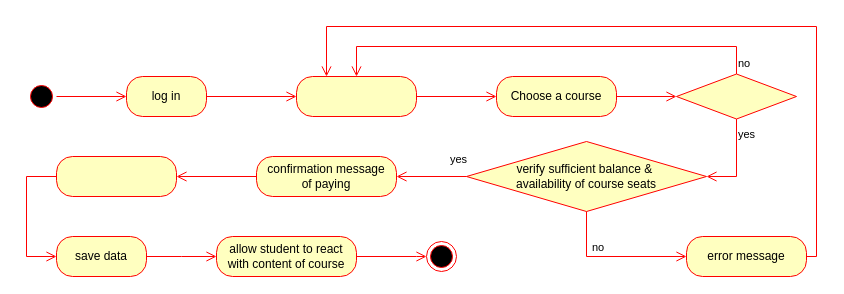
The diagram is 844 pixels wide and 294 high, and some of its shapes have lost their labels. The box of each missing label's shape, as (x1, y1, x2, y2) in pixels:
add course to student's list: (56, 156, 176, 196)
Browse courses: (296, 76, 416, 116)
Pay for the course ?: (676, 73, 796, 119)
